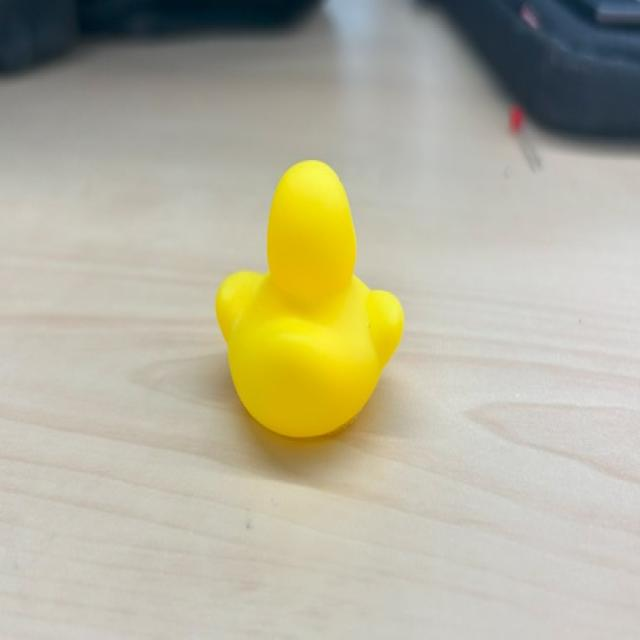vehicle: (206, 137, 422, 473)
